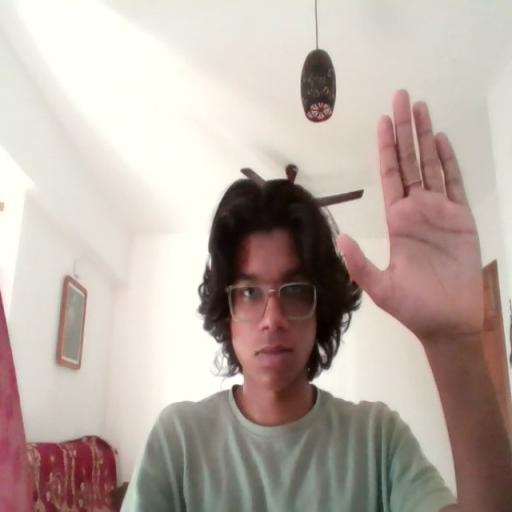Paper: (336, 88, 492, 328)
